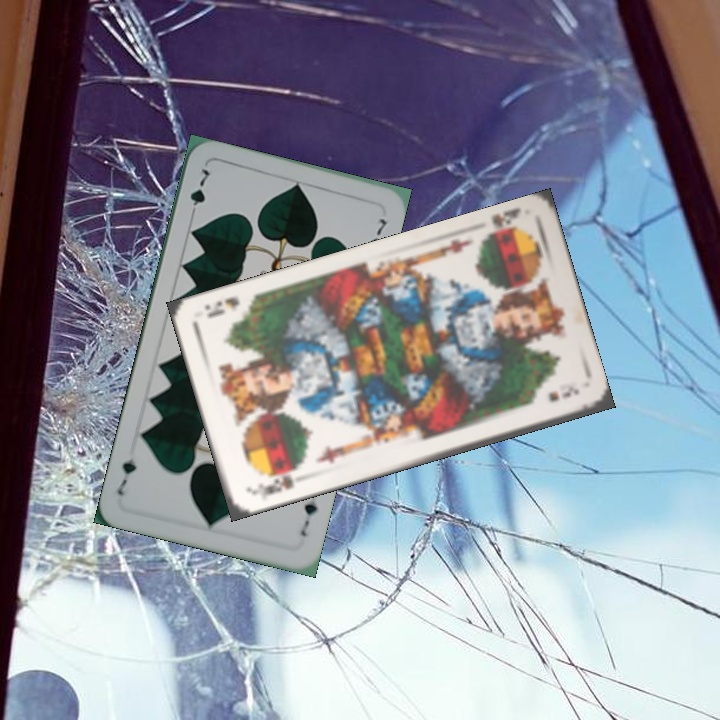G7: (186, 165, 213, 221), (296, 490, 320, 539)
SK: (249, 464, 304, 498), (476, 205, 523, 244)
